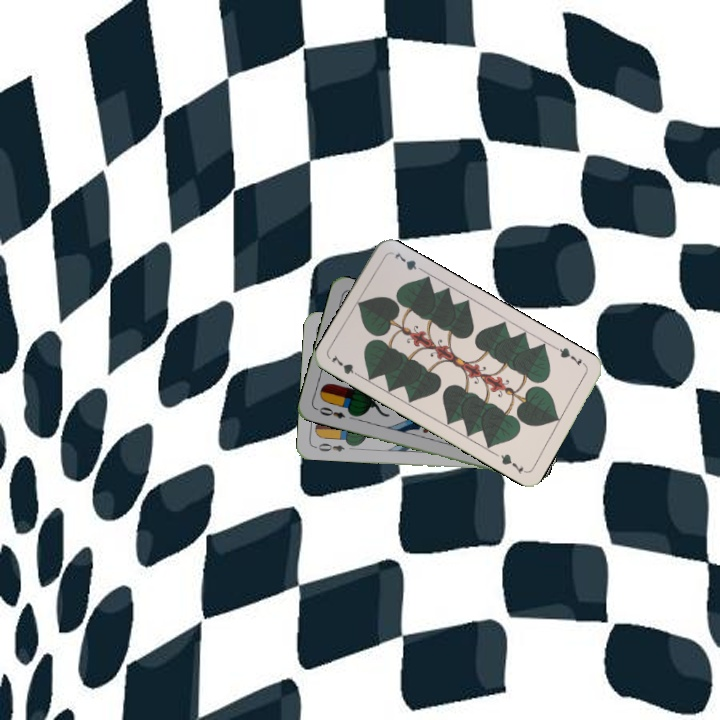EO: (312, 403, 348, 421), (311, 439, 347, 454)
G7: (327, 351, 364, 380), (552, 343, 588, 369)
